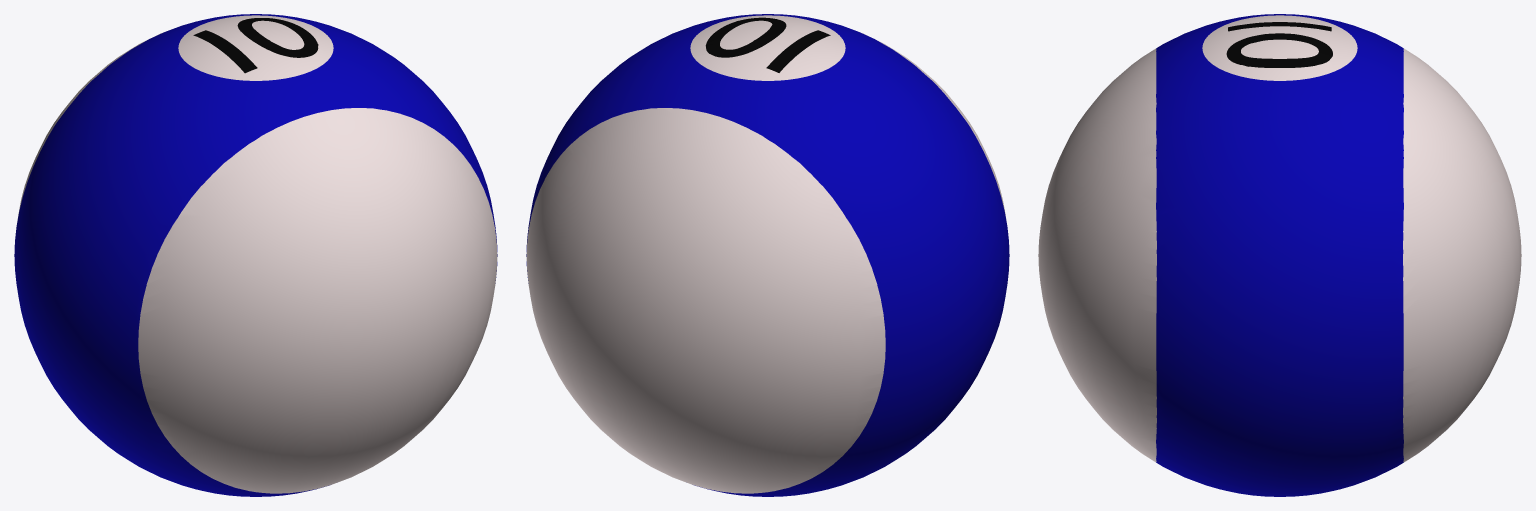
File: tenBall.glb
The picture shows the model from 3 angles, left to right: view 1: azimuth 30°, elevation 25°; view 2: azimuth 150°, elevation 25°; view 3: azimuth 270°, elevation 25°; orthographic projection.
Visible parts, largest first — view 1: Sphere; view 2: Sphere; view 3: Sphere.
Part boxes in pixels (x1,y1,x2,y2): Sphere: (14, 14, 497, 496); Sphere: (526, 14, 1009, 496); Sphere: (1038, 14, 1521, 496).
Size of the model in its own units: 0.127 by 0.127 by 0.127.
